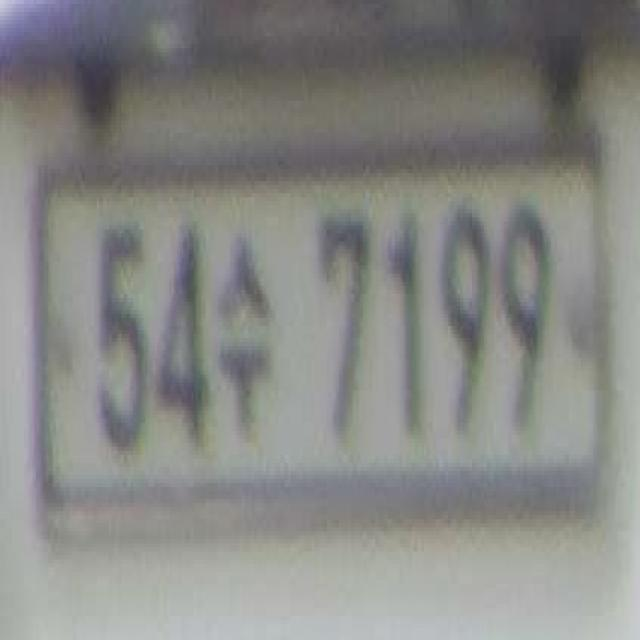1: (390, 193, 433, 447)
4: (147, 205, 215, 447)
5: (82, 205, 153, 463)
7: (307, 205, 371, 451)
9: (492, 193, 558, 431), (437, 201, 490, 431)
license_plate: (29, 116, 614, 564)
su: (210, 221, 280, 431)
